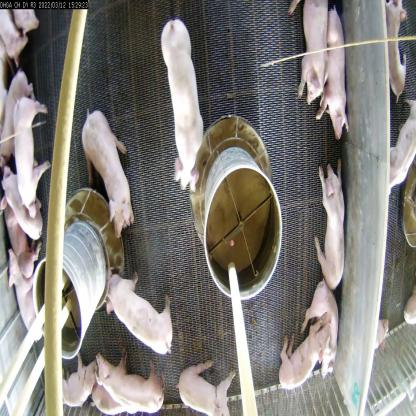Pig: (73, 100, 136, 236), (107, 263, 184, 371), (161, 24, 206, 194), (10, 97, 58, 221), (285, 0, 326, 116), (321, 15, 356, 150), (90, 354, 166, 414), (318, 161, 354, 284), (282, 314, 331, 404), (8, 250, 49, 352), (307, 279, 348, 376), (180, 360, 237, 416), (53, 356, 102, 410)
